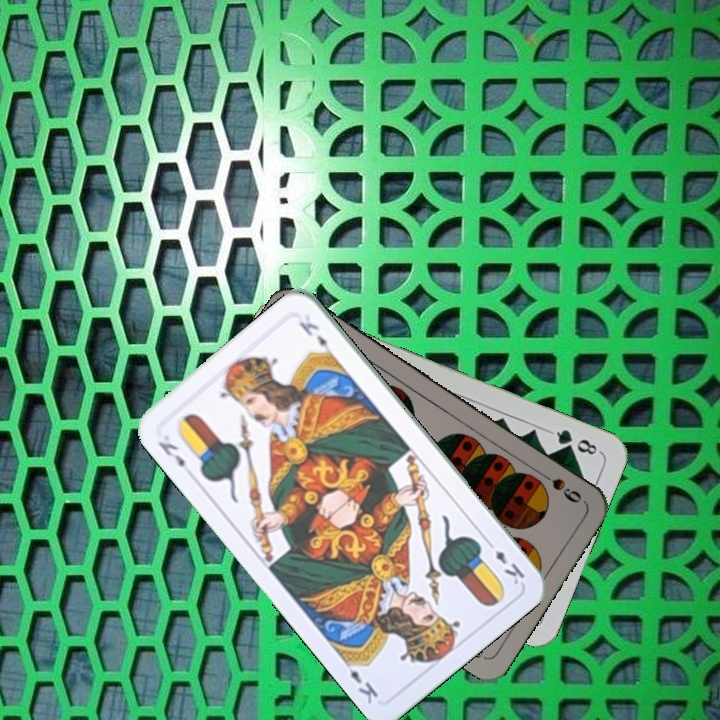EK: (482, 535, 527, 588), (154, 431, 188, 471)
G8: (546, 425, 603, 458)
S9: (533, 466, 585, 506)
